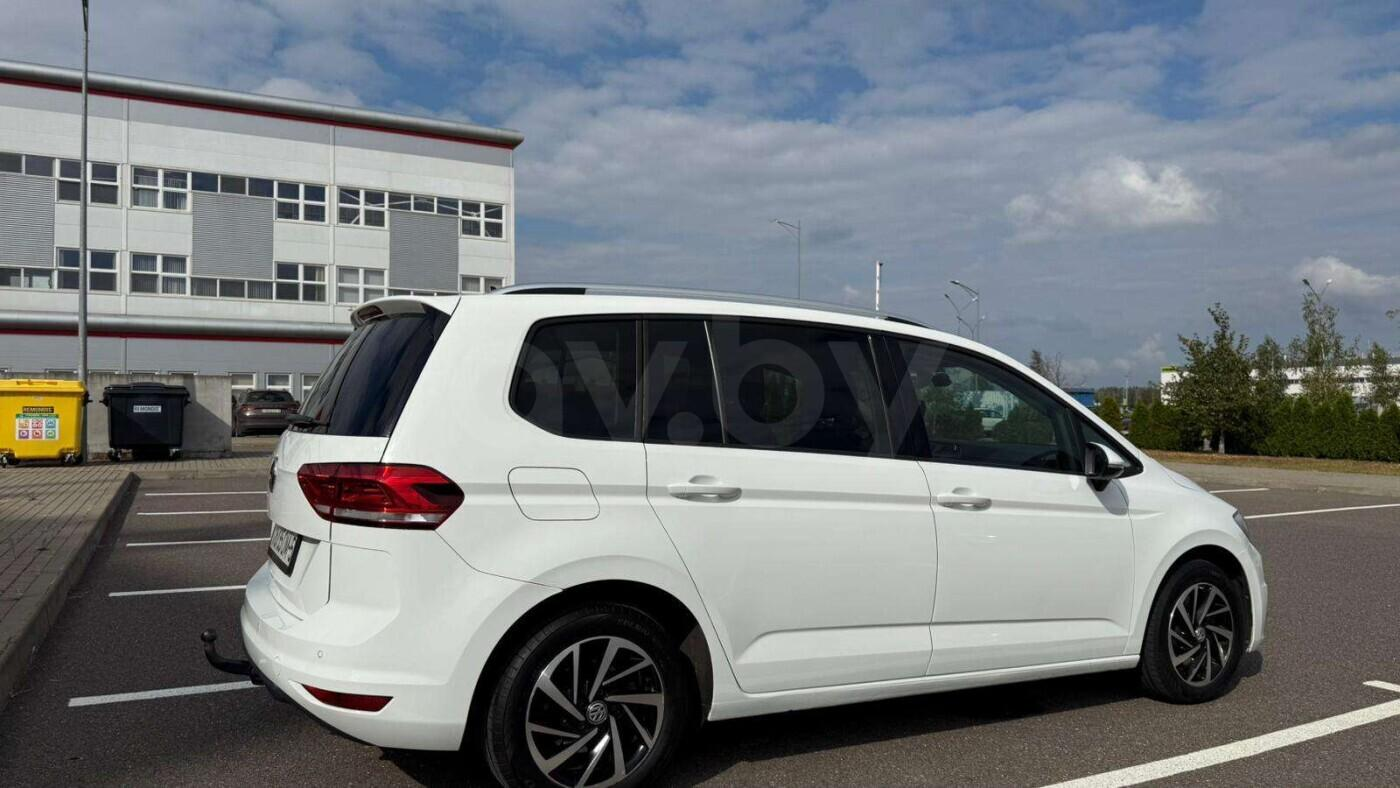Touran_2015: (227, 285, 1270, 788)
